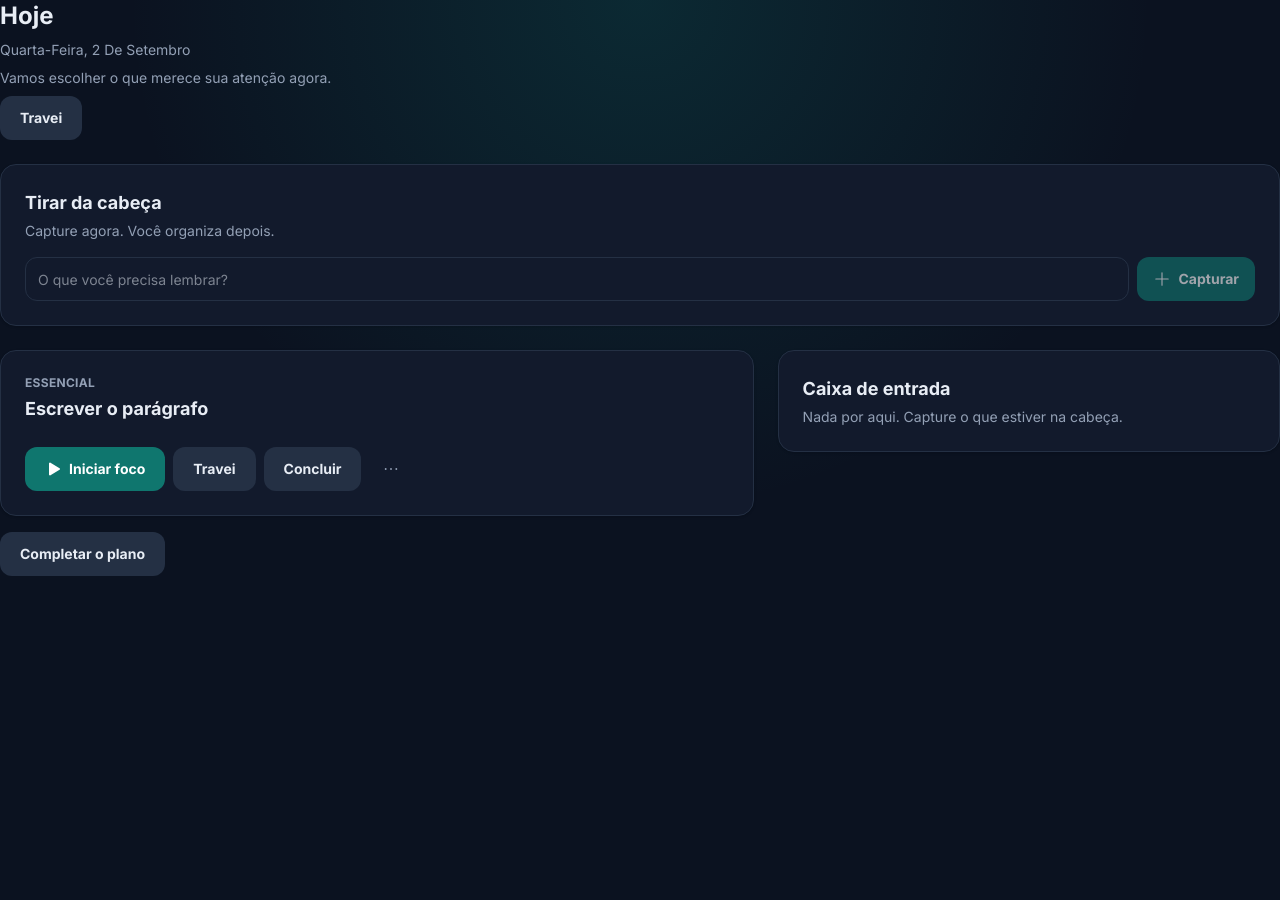
Travei flow › asks for login without sending the task
Step 1. Click the 1st button "Travei" → (41, 118), box [0,96,82,140]
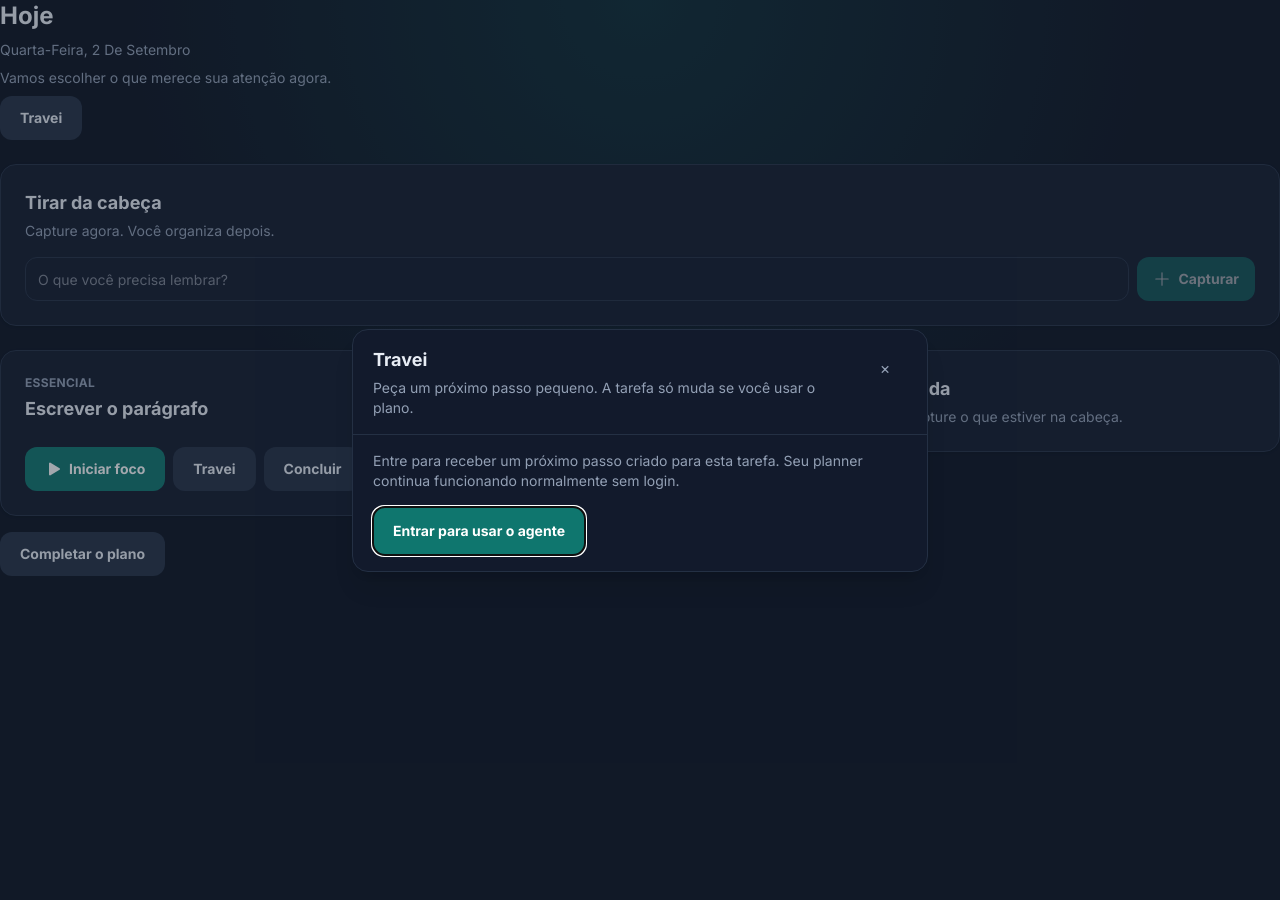
Now the button "Entrar para usar o agente" is shown, box [373,506,585,554]
